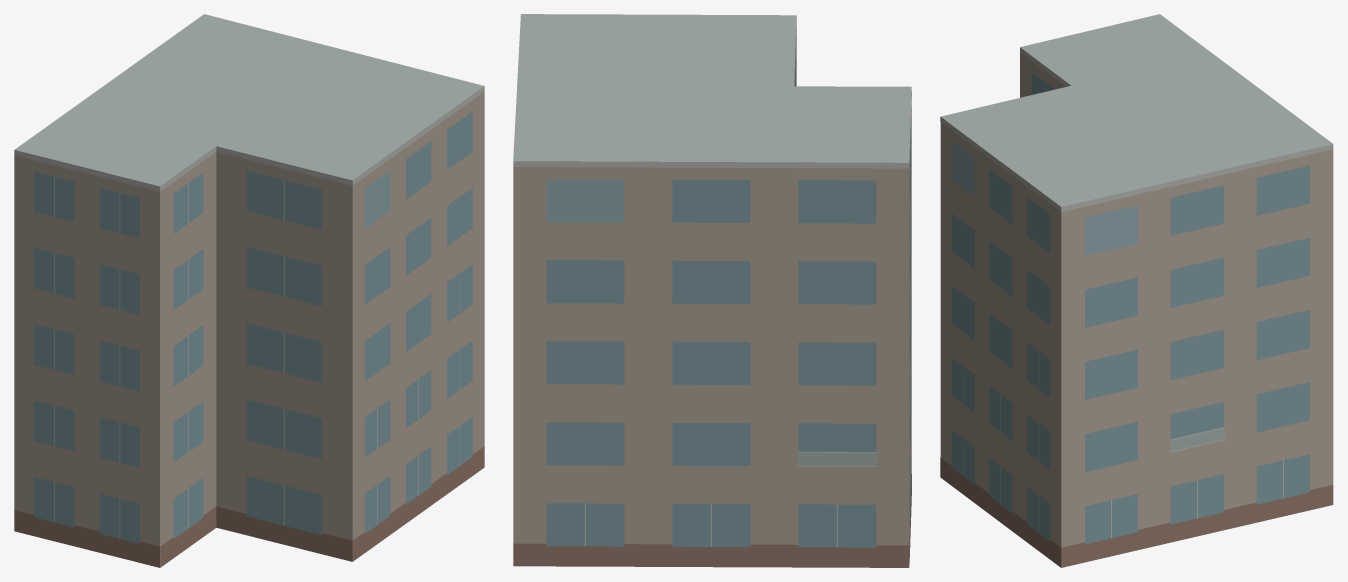
Rendered from survey-upis-32638890.glb.
The picture shows the model from 3 angles, left to right: view 1: azimuth 30°, elevation 25°; view 2: azimuth 150°, elevation 25°; view 3: azimuth 270°, elevation 25°; orthographic projection. The views are drawn at different scales.
Parts seen in each view (by area): view 1: survey-upis-32638890.tmp; view 2: survey-upis-32638890.tmp; view 3: survey-upis-32638890.tmp.
Part boxes in pixels (bbox=[...]): survey-upis-32638890.tmp: bbox=[14, 14, 484, 567]; survey-upis-32638890.tmp: bbox=[513, 14, 911, 567]; survey-upis-32638890.tmp: bbox=[940, 14, 1333, 567].
Bounding box in the file's own units: 19.6 × 17.08 × 16.86.
